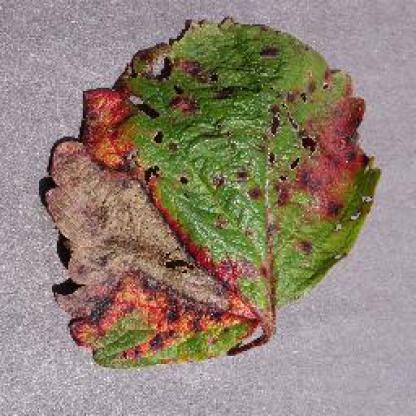leaf scorch: (36, 10, 388, 372)
